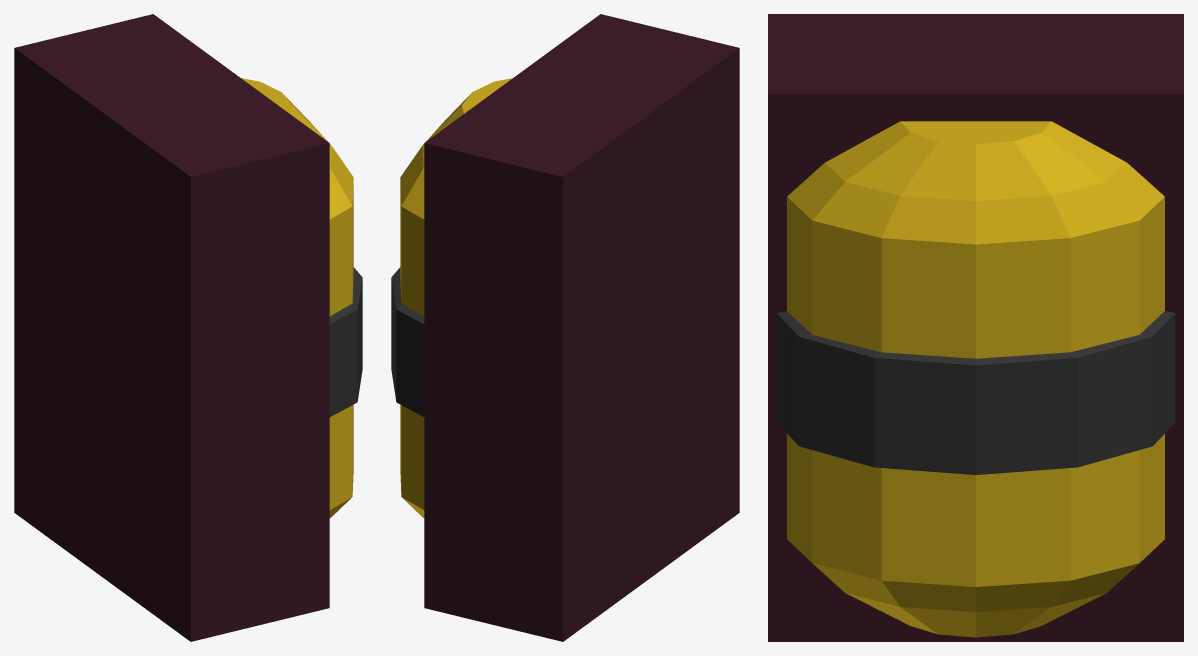
The model's file is Wall Light.fbx.
3 views of the same model, side by side, from view 1: azimuth 30°, elevation 25°; view 2: azimuth 150°, elevation 25°; view 3: azimuth 270°, elevation 25° (orthographic). The views are drawn at different scales.
Parts seen in each view (by area): view 1: Wall Light; view 2: Wall Light; view 3: Wall Light.
Part boxes in pixels (box(x1,y1,x2,y2)): Wall Light: box(14, 14, 362, 641); Wall Light: box(391, 14, 739, 641); Wall Light: box(768, 14, 1183, 641).
Bounding box in the file's own units: 166 × 320 × 220.
